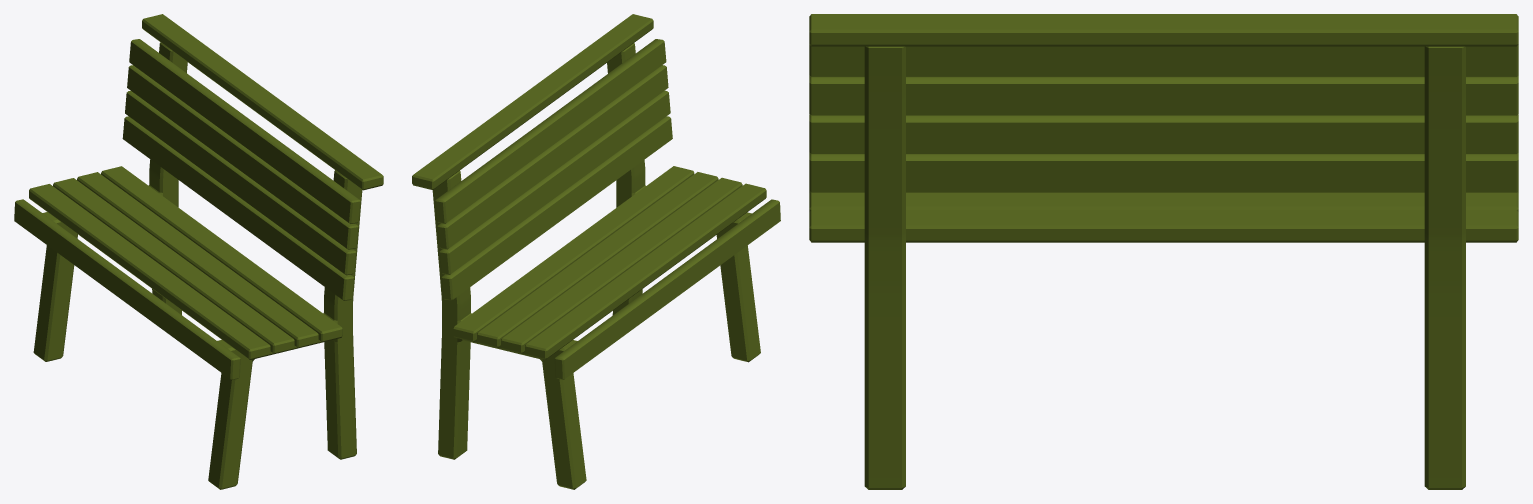
File: bench_05.fbx
3 renders of one model, left to right at view 1: azimuth 30°, elevation 25°; view 2: azimuth 150°, elevation 25°; view 3: azimuth 270°, elevation 25°, orthographic. The views are drawn at different scales.
Parts seen in each view (by area): view 1: Cube.010; view 2: Cube.010; view 3: Cube.010.
Boxes of the visible parts, x1,y1,x2,y2 form: Cube.010: (14,14,383,489); Cube.010: (412,14,780,489); Cube.010: (809,14,1518,489).
Size of the model in its own units: 209 by 387 by 530.
